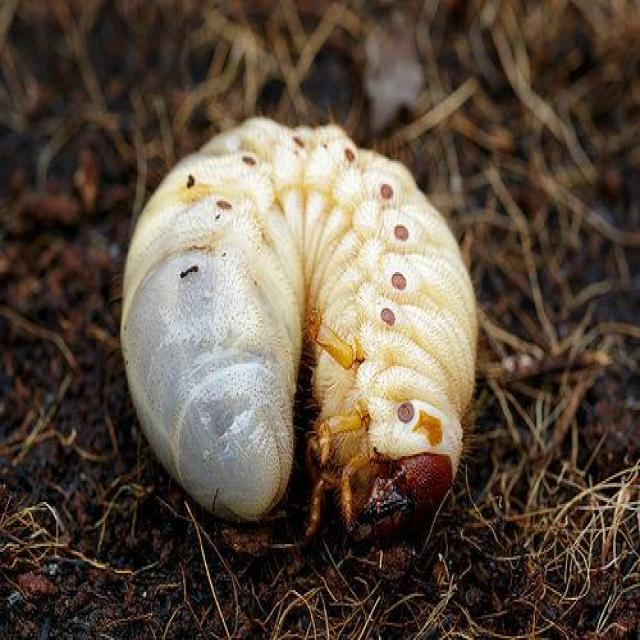Grub-Adult-: (92, 78, 490, 540)
